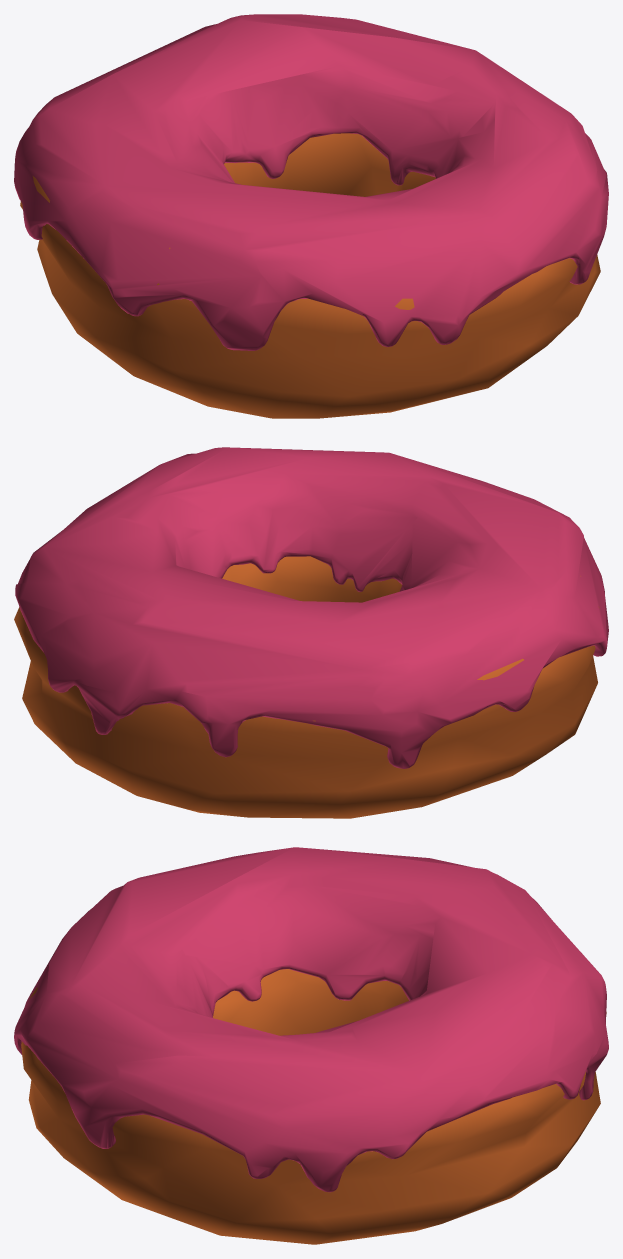
File: donut.obj
3 views of the same model, one above another, from view 1: azimuth 30°, elevation 25°; view 2: azimuth 150°, elevation 25°; view 3: azimuth 270°, elevation 25° (orthographic).
Visible parts, largest first — view 1: Donut_Original_Torus.001; view 2: Donut_Original_Torus.001; view 3: Donut_Original_Torus.001.
Part boxes in pixels (bbox=[...]): Donut_Original_Torus.001: bbox=[14, 14, 608, 418]; Donut_Original_Torus.001: bbox=[14, 447, 608, 818]; Donut_Original_Torus.001: bbox=[14, 847, 608, 1244].
Size of the model in its own units: 0.1438 by 0.0577 by 0.1449.
